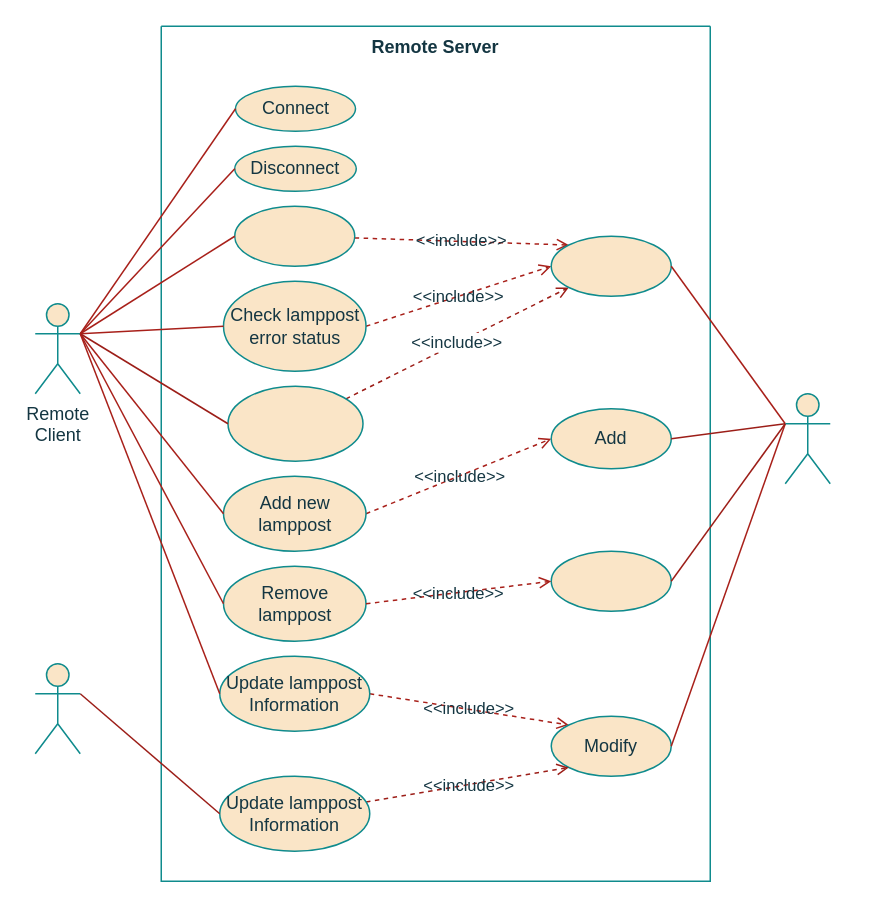
Image size: 872x908. Some labels were removed from this diagram. Here are the shapes that lost their labels. From the top down, the centre of each, then its label:
At (294,235): "Login".
At (610,265): "Read".
At (294,423): "Check empty parking spots".
At (807,438): "Database".
At (610,580): "Remove".
At (57,708): "Local System".
